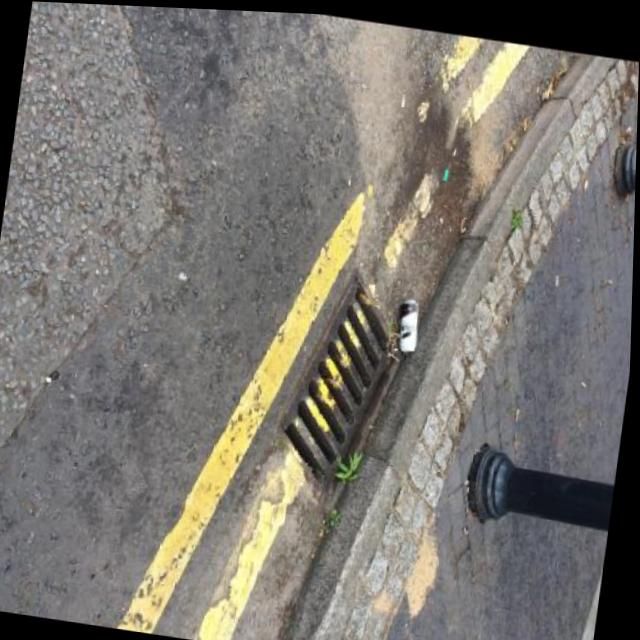metal: (394, 296, 423, 352)
